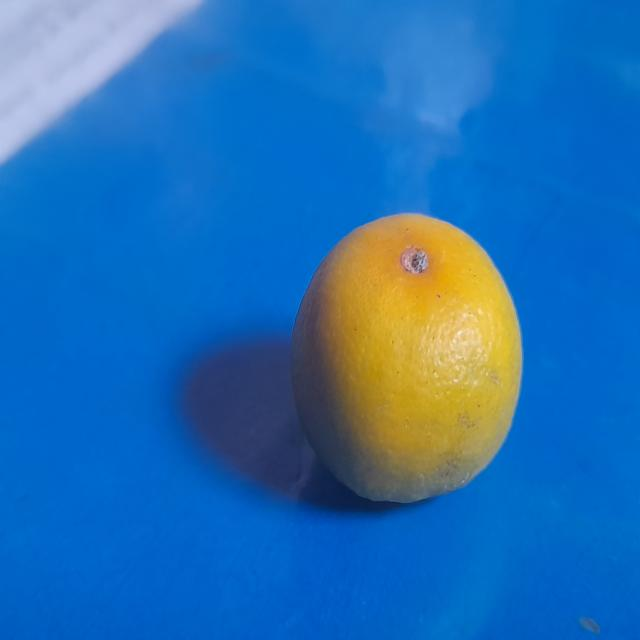greening: (289, 209, 531, 514)
